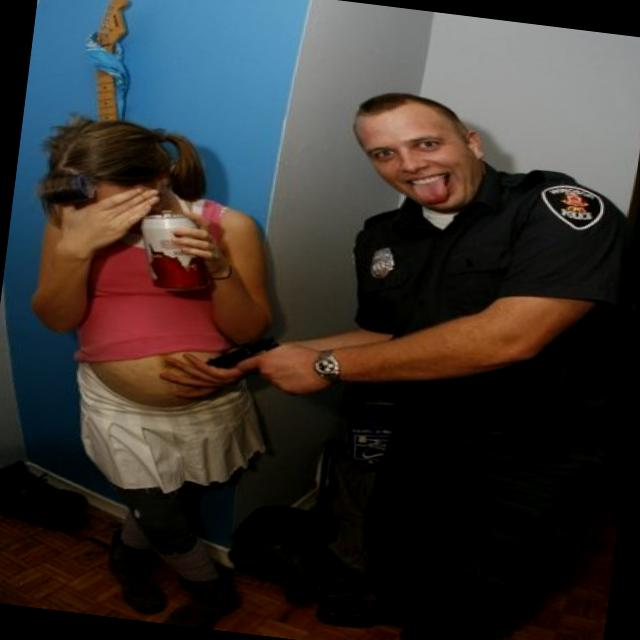handgun: (188, 329, 278, 379)
